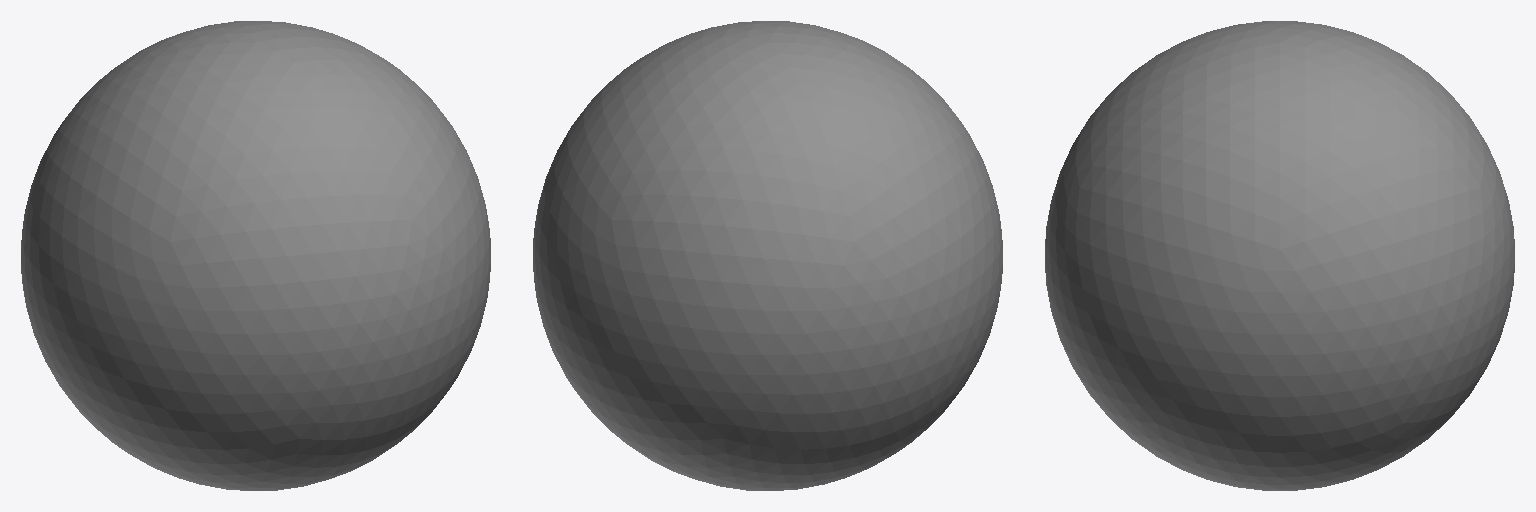
Rendered from sun.obj.
3 renders of one model, left to right at view 1: azimuth 30°, elevation 25°; view 2: azimuth 150°, elevation 25°; view 3: azimuth 270°, elevation 25°, orthographic.
Visible parts, largest first — view 1: GeoSphere001_Mesh; view 2: GeoSphere001_Mesh; view 3: GeoSphere001_Mesh.
Boxes of the visible parts, <box> form: GeoSphere001_Mesh: <box>21,21,490,490</box>; GeoSphere001_Mesh: <box>533,21,1002,490</box>; GeoSphere001_Mesh: <box>1045,21,1514,490</box>.
Bounding box in the file's own units: 21.1 × 21.14 × 21.14.